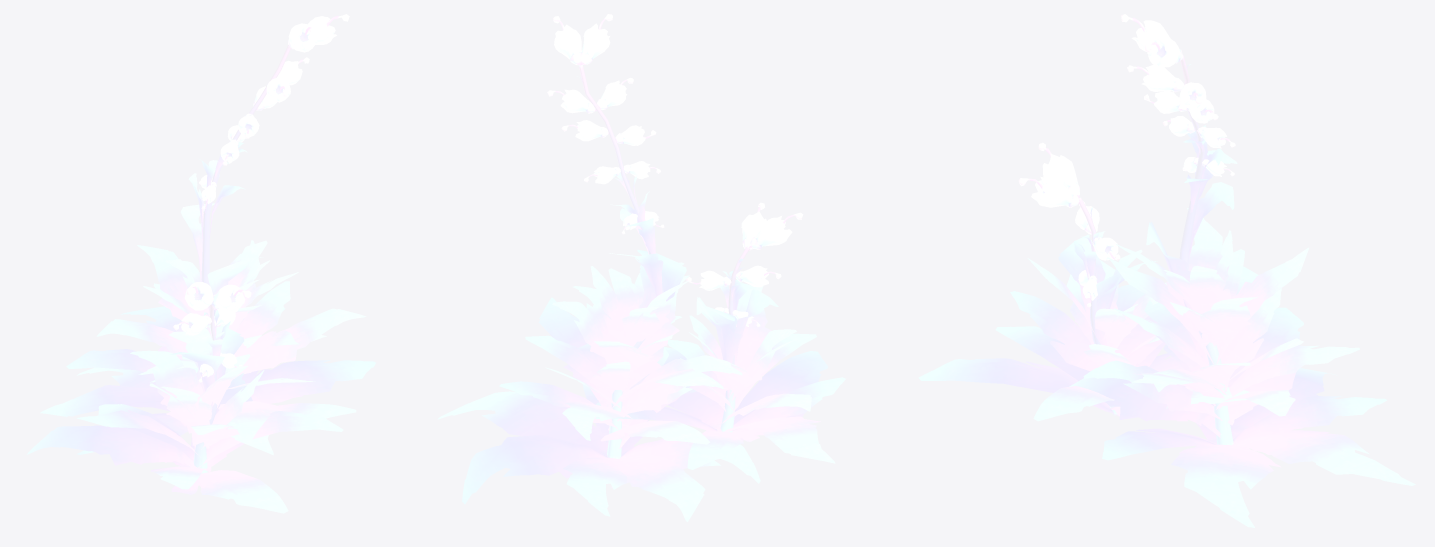
The picture shows the model from 3 angles, left to right: view 1: azimuth 30°, elevation 25°; view 2: azimuth 150°, elevation 25°; view 3: azimuth 270°, elevation 25°; orthographic projection. The views are drawn at different scales.
Parts seen in each view (by area): view 1: SM_FH_Fox_Glove_02_LOD0; view 2: SM_FH_Fox_Glove_02_LOD0; view 3: SM_FH_Fox_Glove_02_LOD0.
Part boxes in pixels (<box>): SM_FH_Fox_Glove_02_LOD0: <box>27,14,375,513</box>; SM_FH_Fox_Glove_02_LOD0: <box>437,14,845,521</box>; SM_FH_Fox_Glove_02_LOD0: <box>918,14,1415,527</box>.
Size of the model in its own units: 0.6916 by 0.7031 by 0.7119.
Materials: 1 (1 with a texture image).
